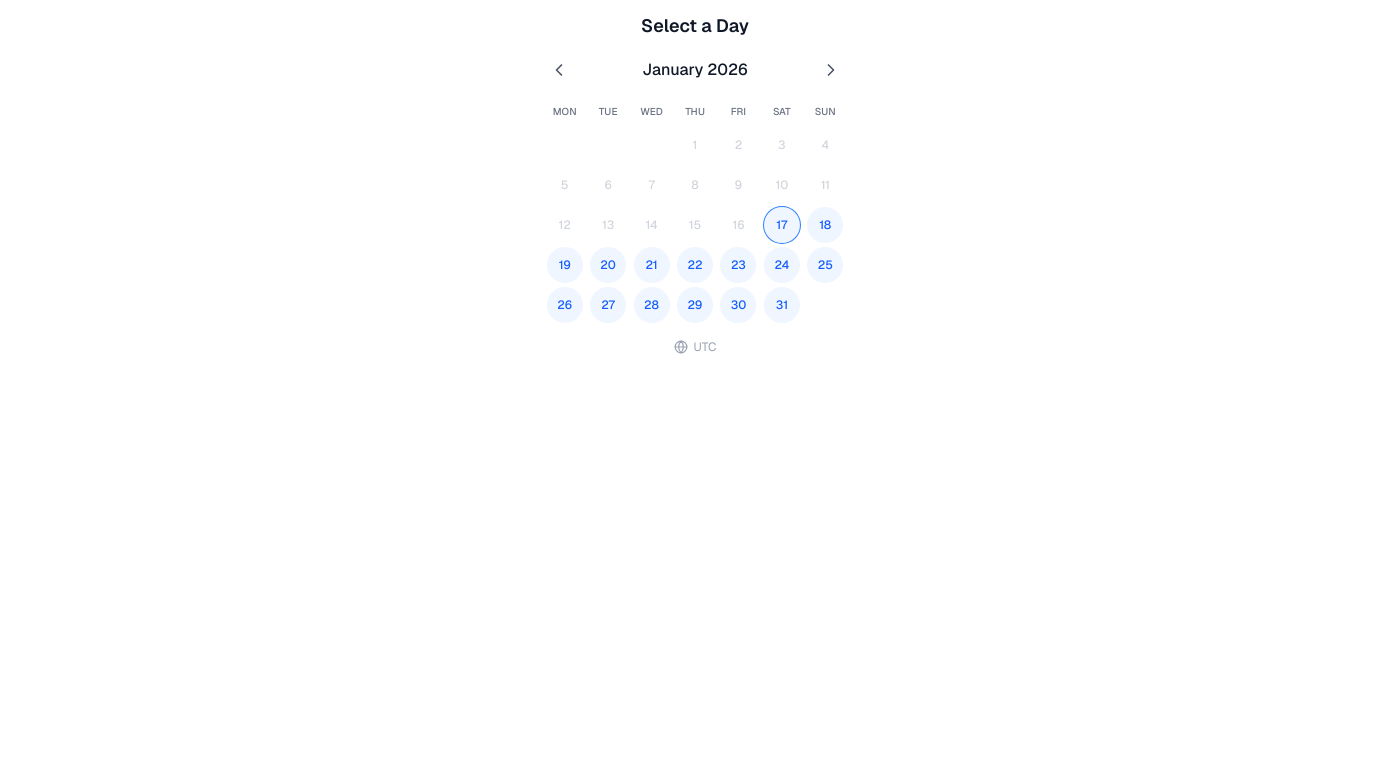
Scenario: BookingForm › Navigation › should allow going back from time selection to date selection
What coordinates should you click on to do the following:
click the button "31"
I would click on:
 (782, 305)
Its box is [764,287,800,323].
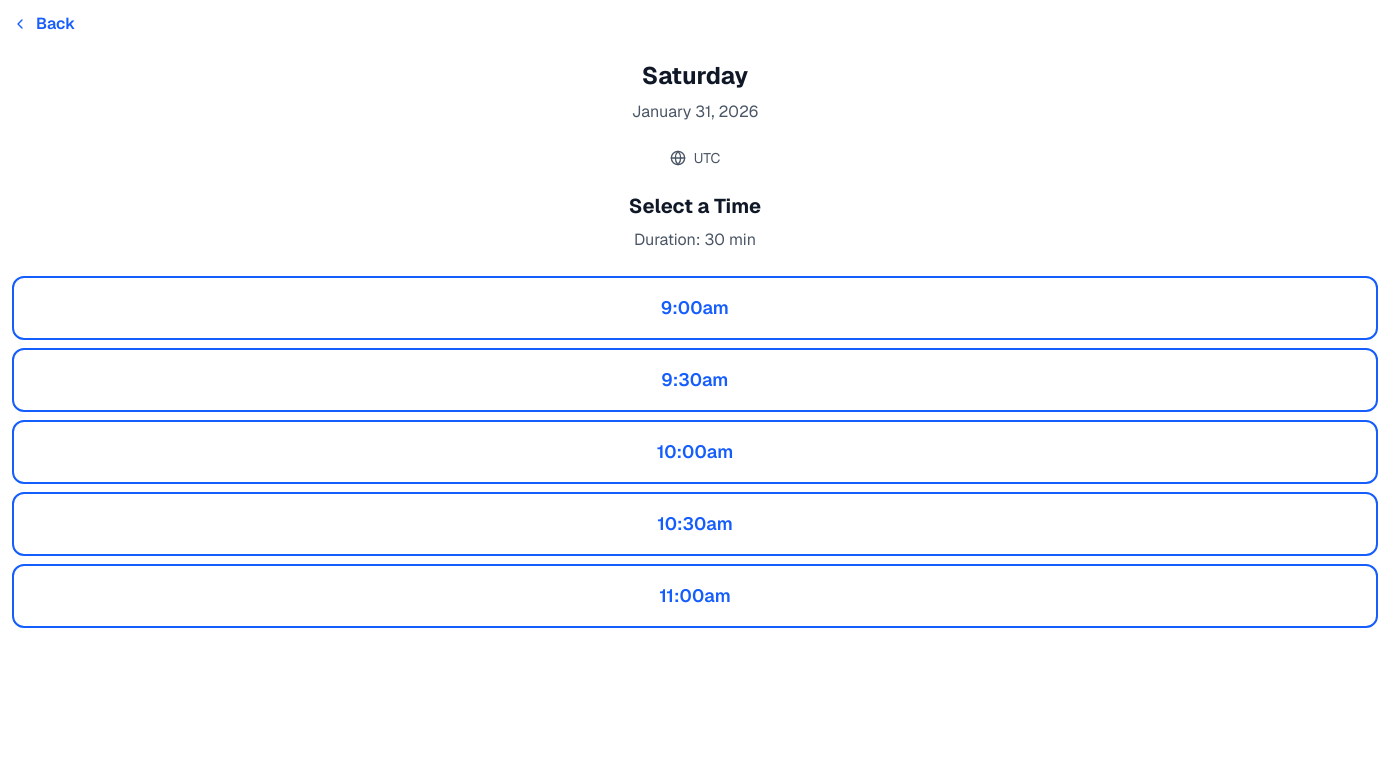
Expected: the heading "Select a Time" is shown, [629,193,761,219]
// Click back button
What coordinates should you click on to do the following:
click the button "Back"
I would click on:
 (44, 24)
Its box is [12,12,75,36].
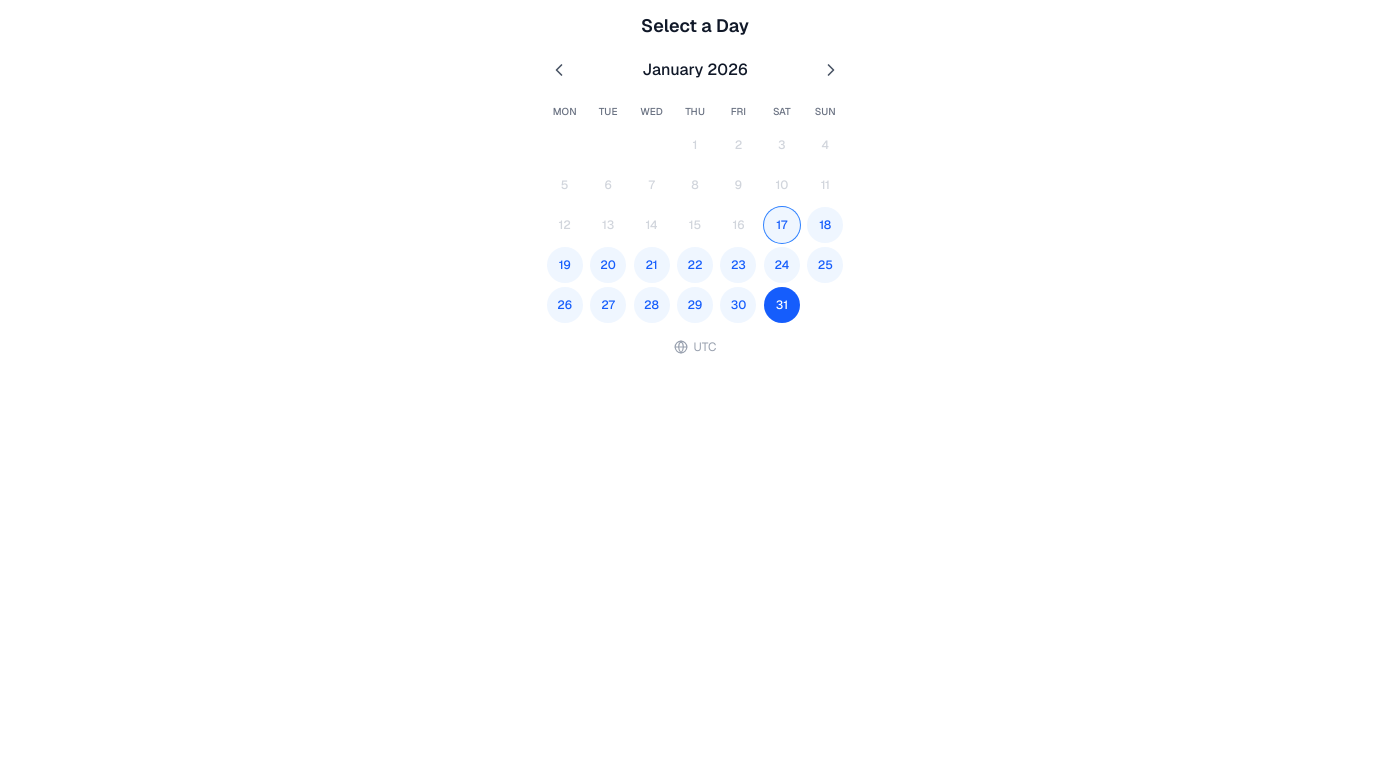
Expected: the heading "Select a Day" is shown, [641,14,749,37]
